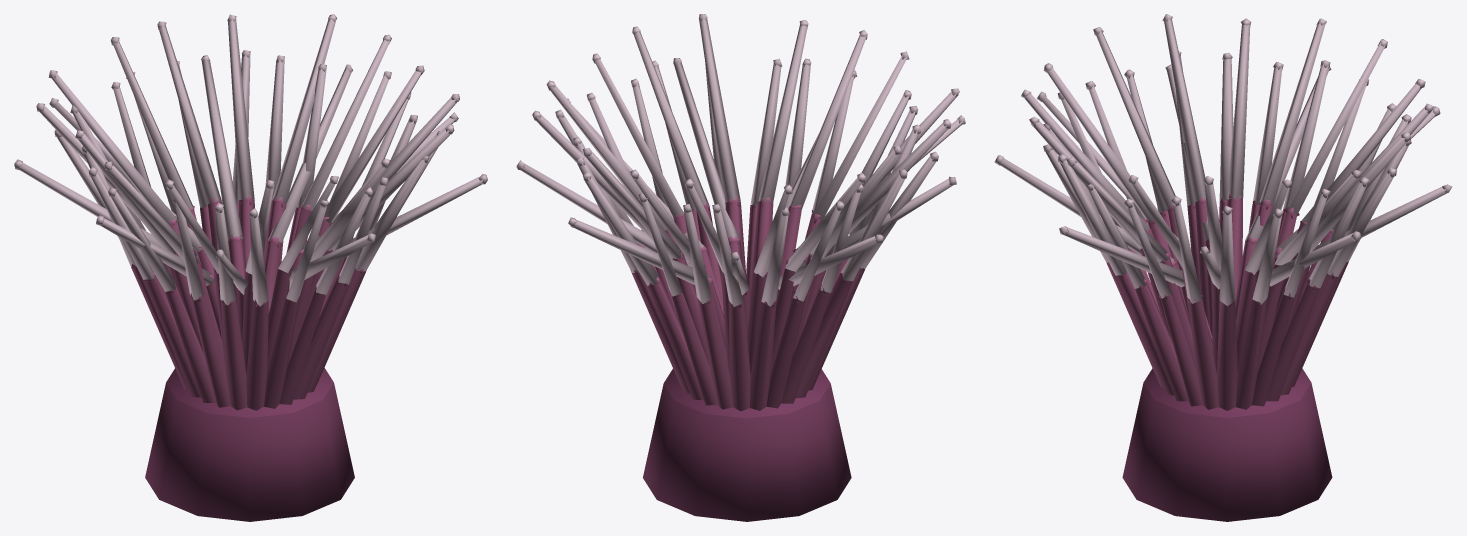
File: sea_anemone.glb
3 renders of one model, left to right at view 1: azimuth 30°, elevation 25°; view 2: azimuth 150°, elevation 25°; view 3: azimuth 270°, elevation 25°, orthographic.
Visible parts, largest first — view 1: sea_anemone; view 2: sea_anemone; view 3: sea_anemone.
Boxes of the visible parts, x1=… form: sea_anemone: x1=14, y1=14, x2=487, y2=521; sea_anemone: x1=516, y1=14, x2=965, y2=521; sea_anemone: x1=994, y1=14, x2=1452, y2=521.
Size of the model in its own units: 0.8449 by 0.7994 by 0.8731.
